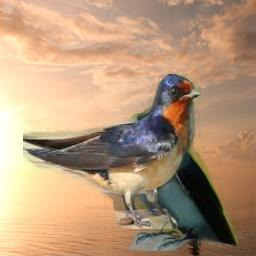Swallow: (23, 74, 201, 229), (119, 113, 238, 251)
